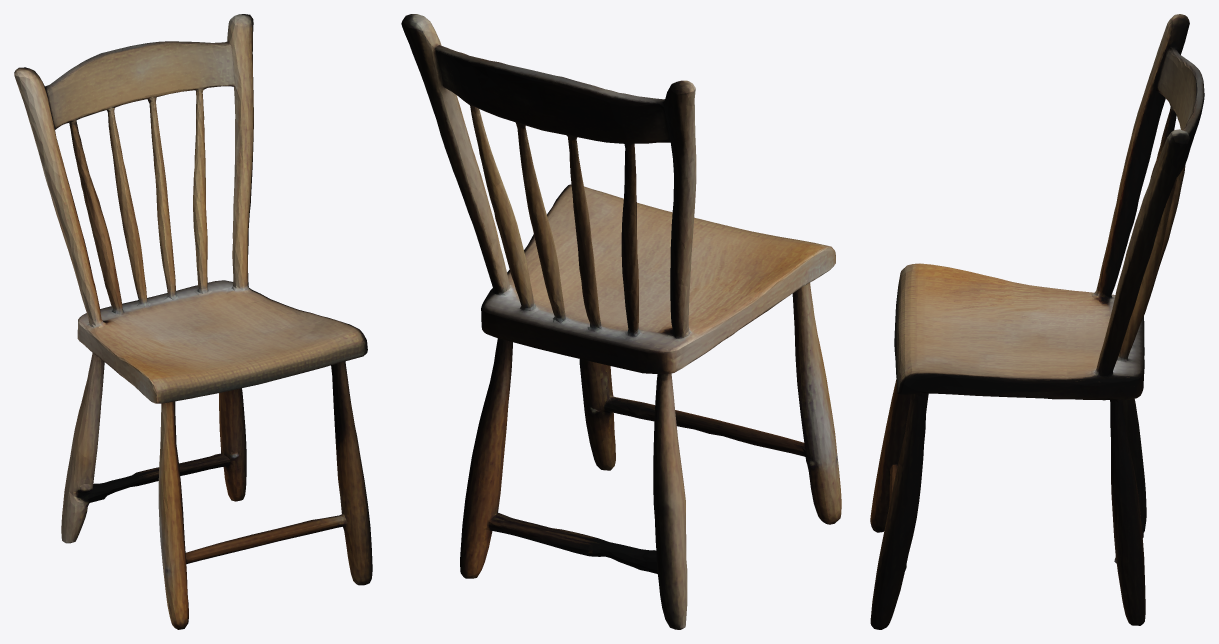
The picture shows the model from 3 angles, left to right: view 1: azimuth 30°, elevation 25°; view 2: azimuth 150°, elevation 25°; view 3: azimuth 270°, elevation 25°; orthographic projection. The views are drawn at different scales.
Parts seen in each view (by area): view 1: geometry_0; view 2: geometry_0; view 3: geometry_0.
Part boxes in pixels (box(x1,y1,x2,y2)): geometry_0: box(14, 14, 372, 629); geometry_0: box(401, 14, 841, 629); geometry_0: box(870, 14, 1204, 629).
Bounding box in the file's own units: 0.5363 × 1 × 0.6004.
Materials: 1 (1 with a texture image).
